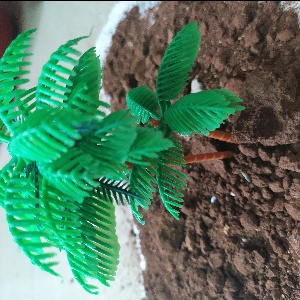plant: (3, 16, 230, 281)
